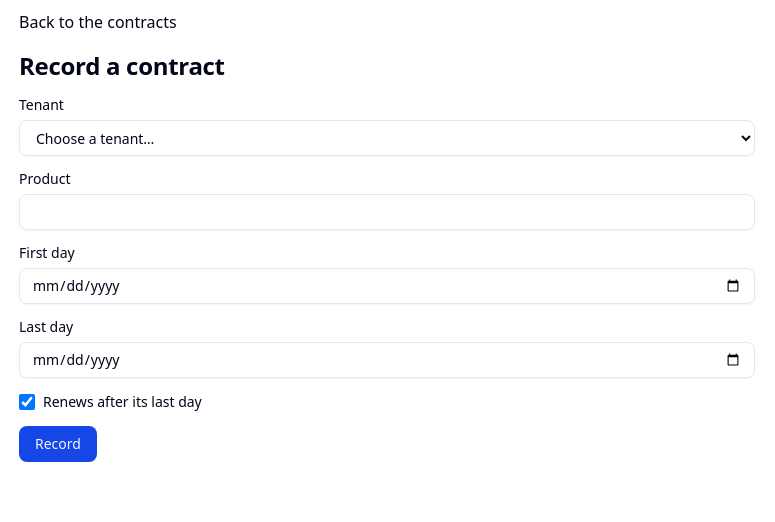
Scenario: a contract is recorded for the chosen tenant with its product, its days and whether it renews
Select "tenant-b" in the dropdown labelled "Tenant" at (387, 138), box [19, 120, 755, 156]
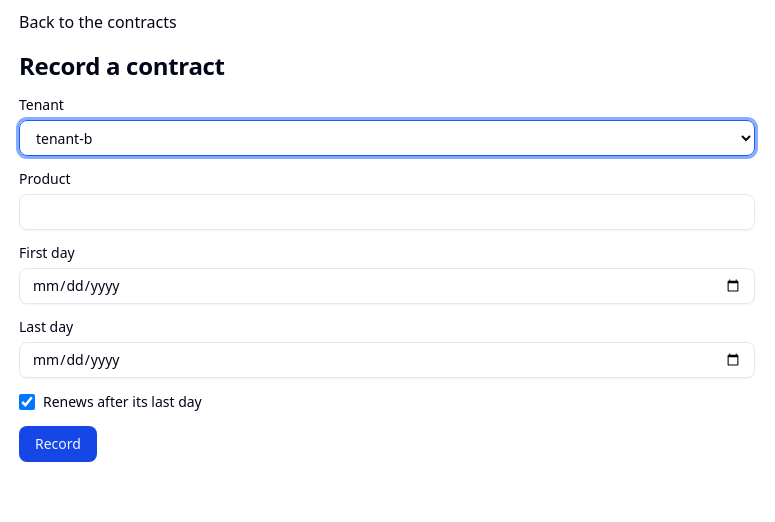
Type "Managed printing" into the field labelled "Product".
click(387, 212); type("Managed printing")  # box [19, 194, 755, 230]
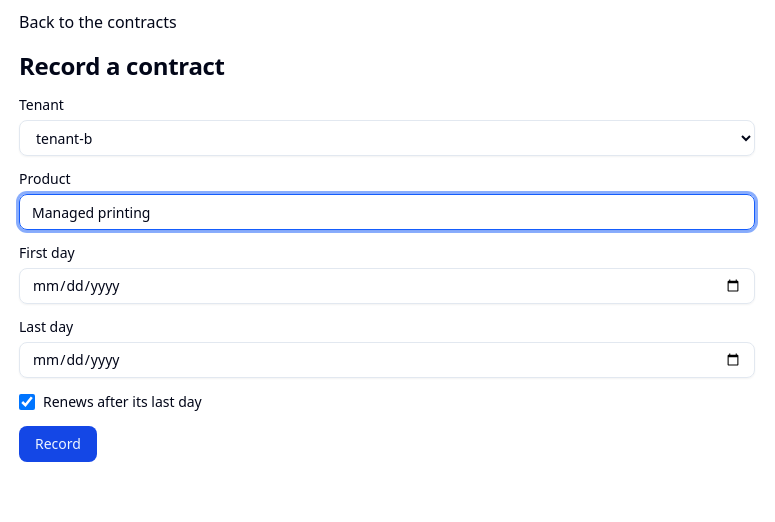
Type "2026-01-01" into the date field labelled "First day".
click(387, 286); type("2026-01-01")  # box [19, 268, 755, 304]
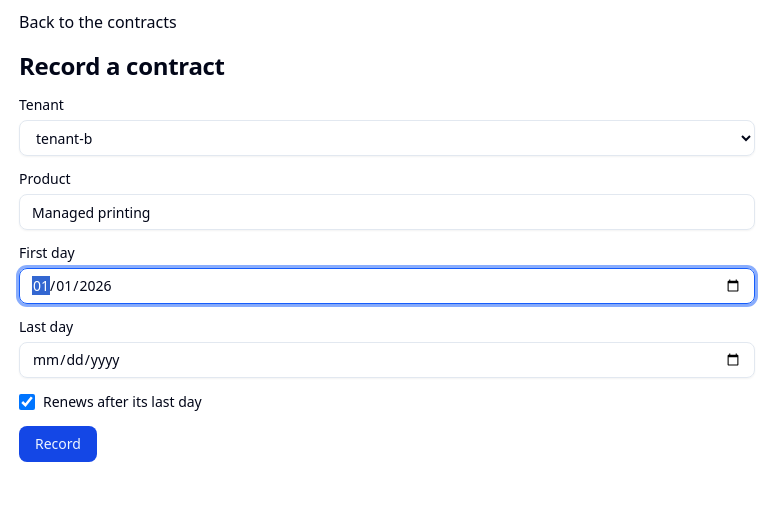
Type "2026-12-31" into the date field labelled "Last day".
click(387, 360); type("2026-12-31")  # box [19, 342, 755, 378]
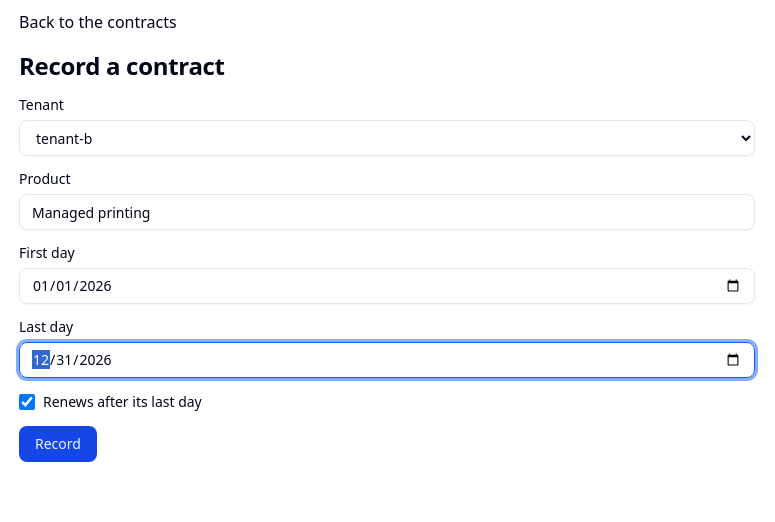
Click the checkbox labelled "Renews after its last day".
click(27, 402)  # box [19, 394, 35, 410]
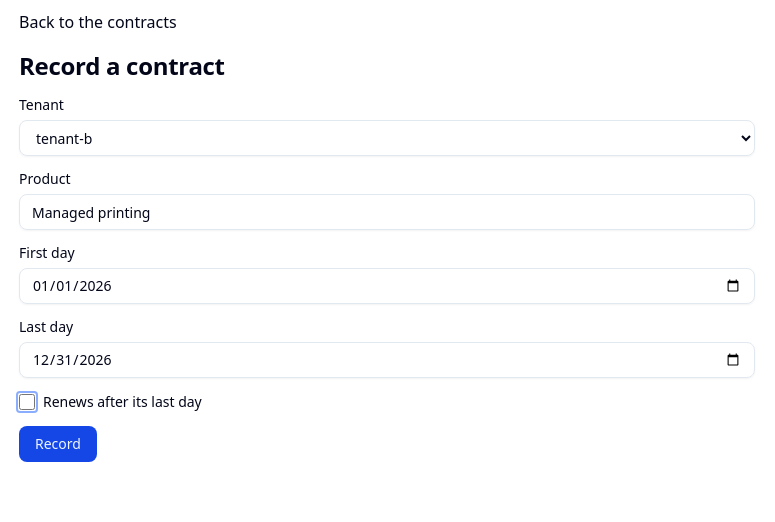
Click the button "Record".
click(58, 444)  # box [19, 426, 97, 462]
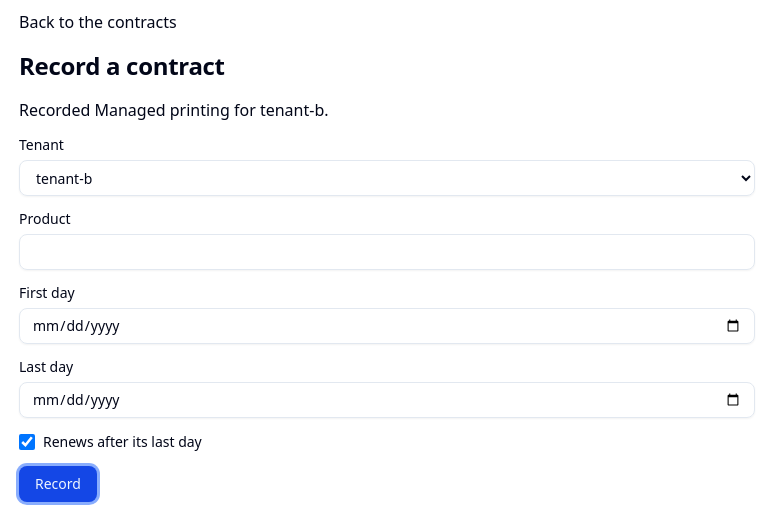
Expected: the message reads "Recorded Managed printing for tenant-b.", [19, 99, 328, 121]
